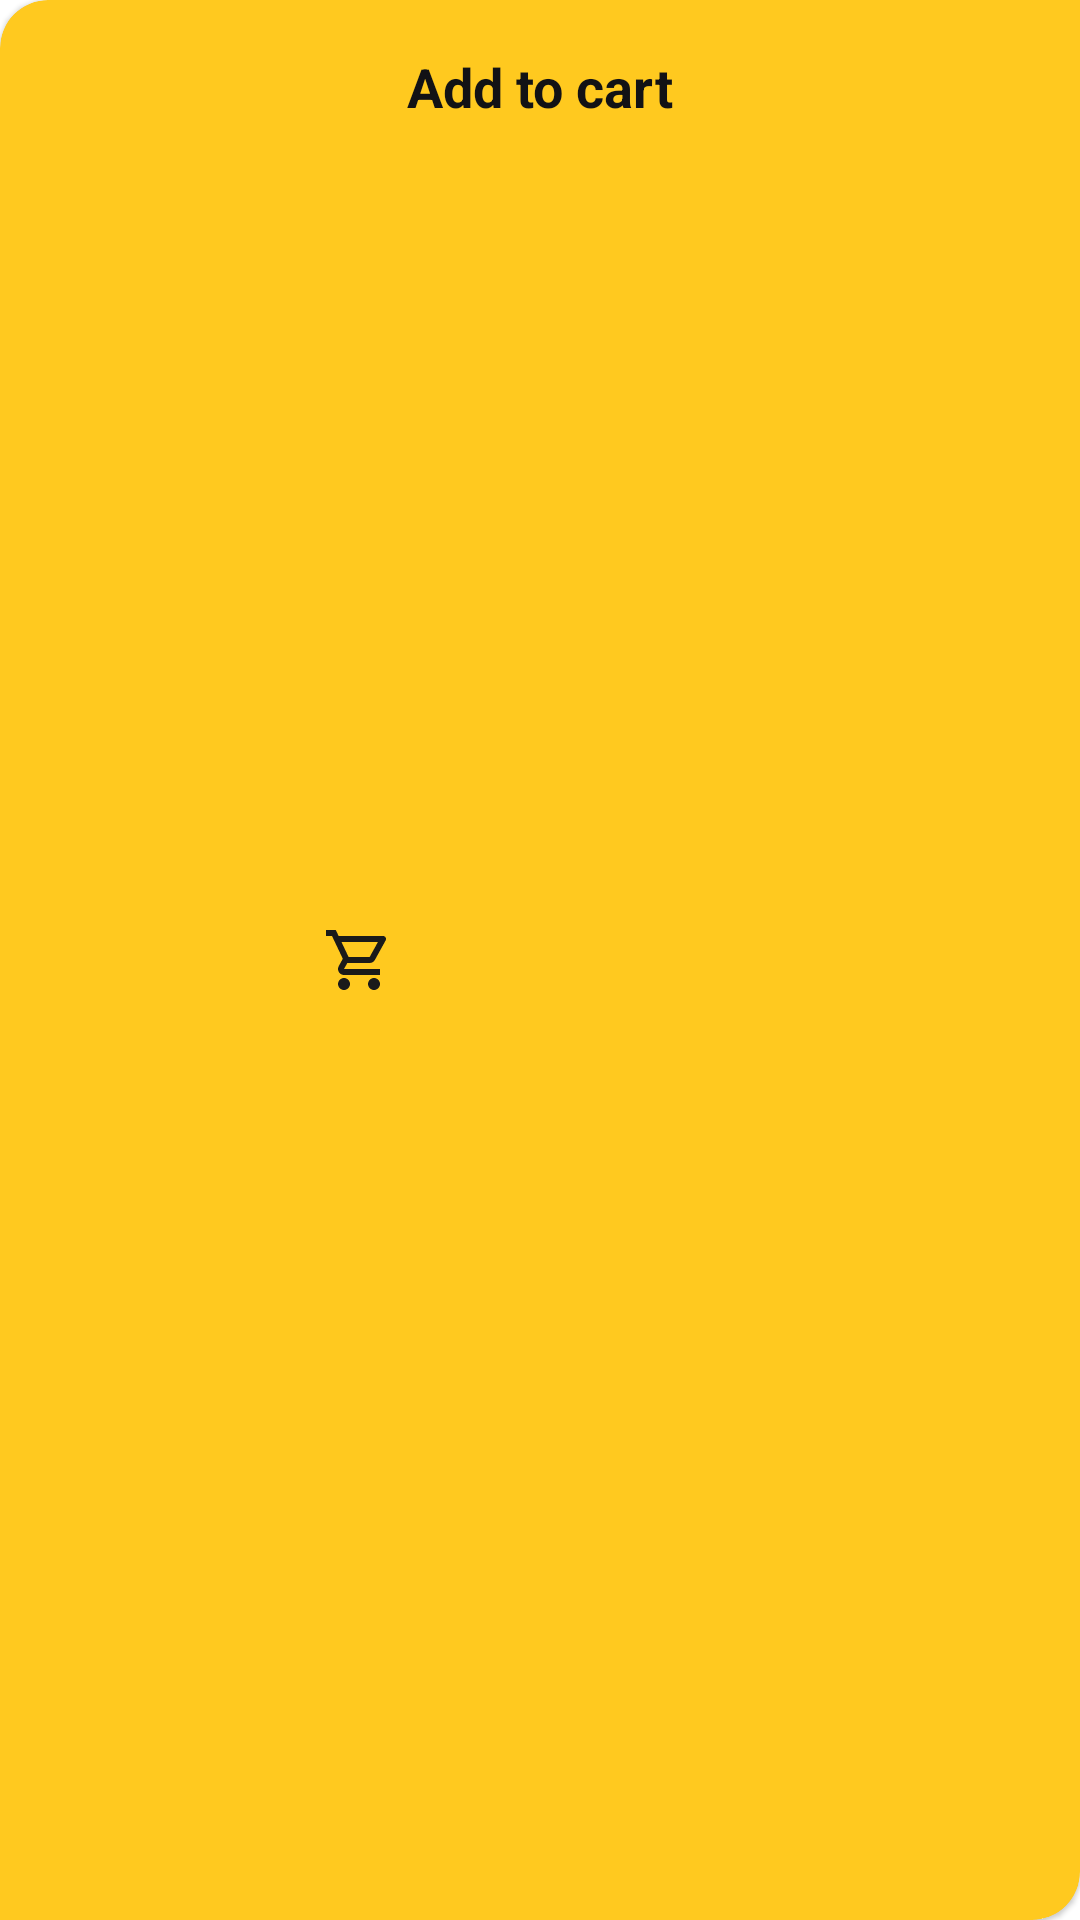

Icons on this 1080 x 1920 Android screen, each with the point to tap as (x,y):
shopping cart: (356,960)
